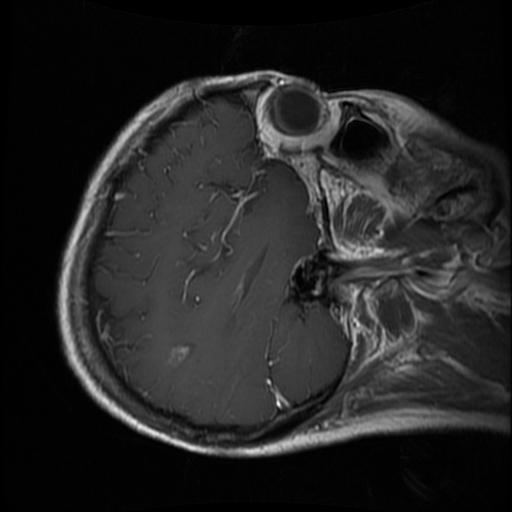glioma: (166, 346, 191, 367)
